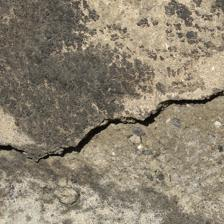Crack: (2, 43, 219, 121)
